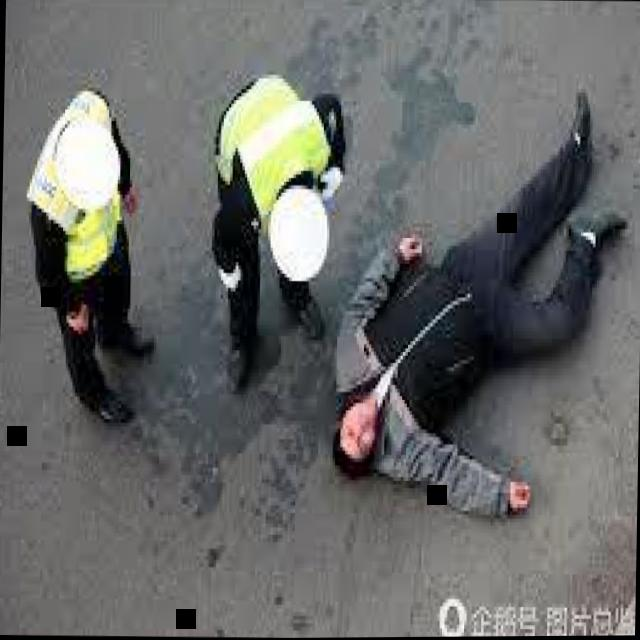Fall-Detected: (309, 47, 630, 529)
